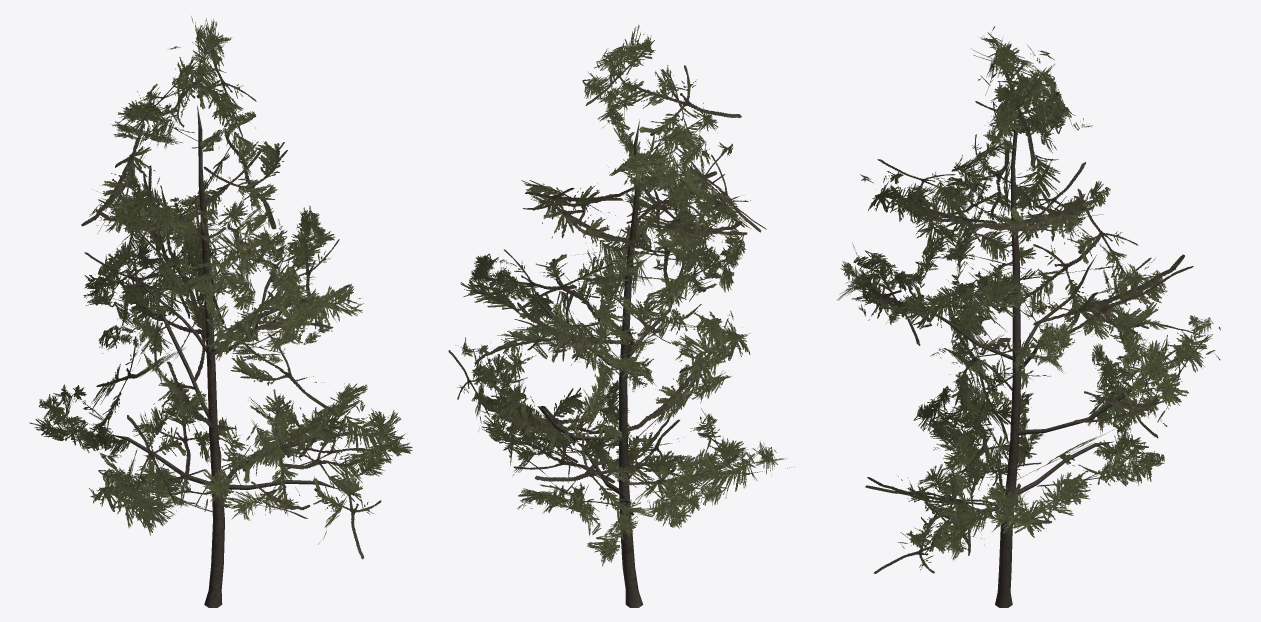
3 views of the same model, side by side, from view 1: azimuth 30°, elevation 25°; view 2: azimuth 150°, elevation 25°; view 3: azimuth 270°, elevation 25° (orthographic).
Visible parts, largest first — view 1: pine_sapling_small__c_lod1; view 2: pine_sapling_small__c_lod1; view 3: pine_sapling_small__c_lod1.
Part boxes in pixels (box(x1,y1,x2,y2)): pine_sapling_small__c_lod1: box(29, 16, 412, 607); pine_sapling_small__c_lod1: box(448, 24, 795, 607); pine_sapling_small__c_lod1: box(837, 26, 1220, 607).
Size of the model in its own units: 0.5563 by 0.9686 by 0.6185.
2 materials, 2 textured.
